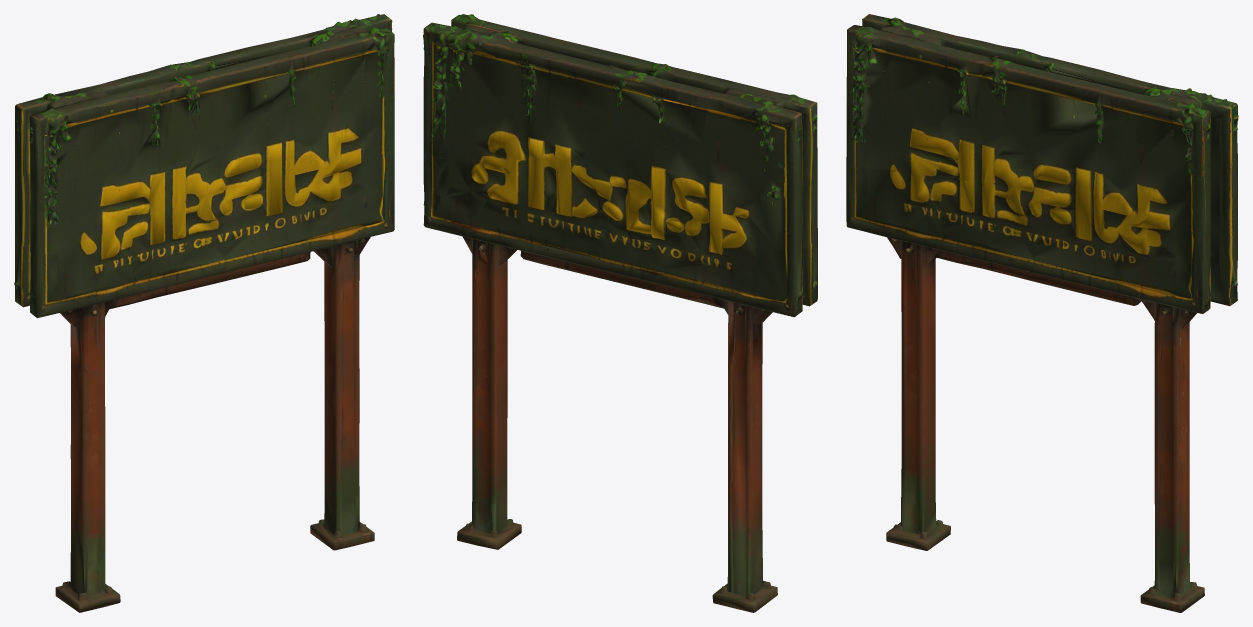
File: cnvs-billboard.glb
3 views of the same model, side by side, from view 1: azimuth 30°, elevation 25°; view 2: azimuth 150°, elevation 25°; view 3: azimuth 330°, elevation 25° (orthographic).
Visible parts, largest first — view 1: tripo_node_a0fb54bb-7638-4644-9dcb-c65f235c2db6; view 2: tripo_node_a0fb54bb-7638-4644-9dcb-c65f235c2db6; view 3: tripo_node_a0fb54bb-7638-4644-9dcb-c65f235c2db6.
Boxes of the visible parts, left/top/right/bottom form: tripo_node_a0fb54bb-7638-4644-9dcb-c65f235c2db6: left=14, top=14, right=394, bottom=612; tripo_node_a0fb54bb-7638-4644-9dcb-c65f235c2db6: left=423, top=14, right=817, bottom=612; tripo_node_a0fb54bb-7638-4644-9dcb-c65f235c2db6: left=846, top=14, right=1238, bottom=612.
Size of the model in its own units: 0.7743 by 0.9999 by 0.1114.
1 material, 1 textured.
